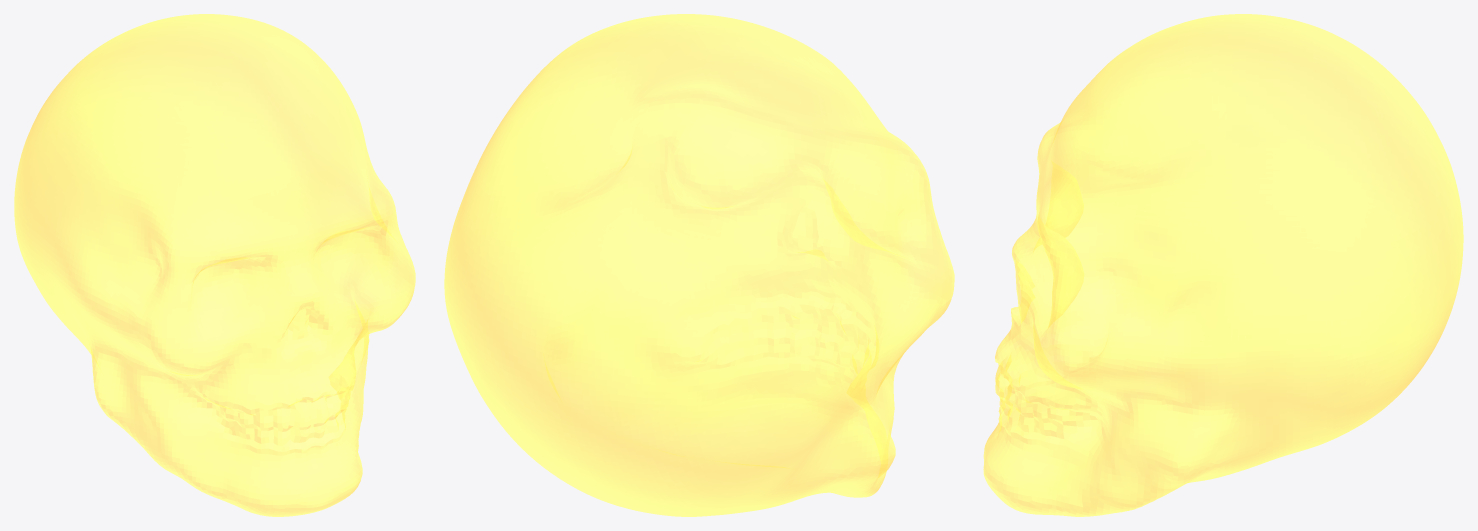
File: skelly.glb
The picture shows the model from 3 angles, left to right: view 1: azimuth 30°, elevation 25°; view 2: azimuth 150°, elevation 25°; view 3: azimuth 270°, elevation 25°; orthographic projection. The views are drawn at different scales.
Parts seen in each view (by area): view 1: skull; view 2: skull; view 3: skull.
Part boxes in pixels (box(x1,y1,x2,y2)): skull: box(14, 14, 415, 516); skull: box(444, 14, 954, 516); skull: box(983, 14, 1463, 516).
Bounding box in the file's own units: 1.71 × 2.24 × 2.12.
